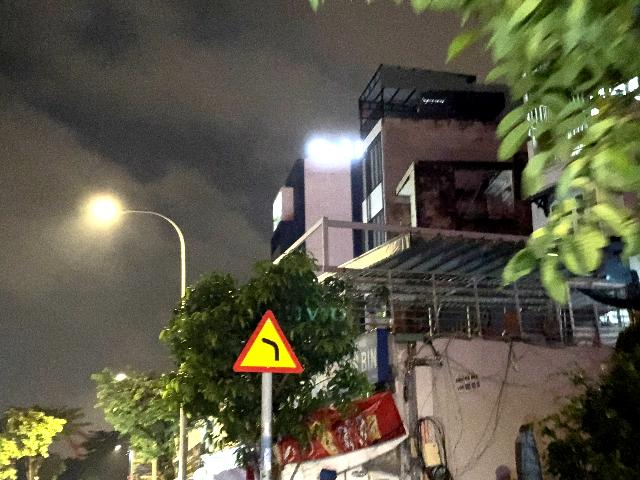cho-ngoat-nguy-hiem-ben-trai: (232, 310, 304, 374)
